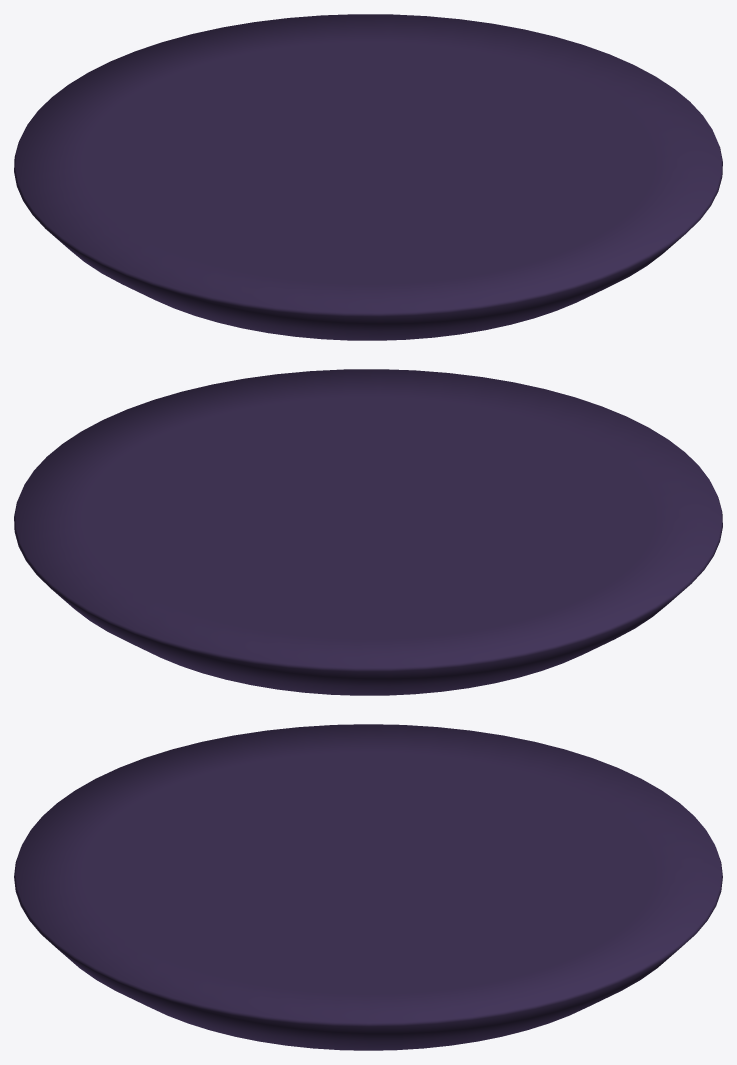
Rendered from lava-wave-aoe.glb.
3 renders of one model, top to bottom at view 1: azimuth 30°, elevation 25°; view 2: azimuth 150°, elevation 25°; view 3: azimuth 270°, elevation 25°, orthographic.
Visible parts, largest first — view 1: lava-wave-aoe; view 2: lava-wave-aoe; view 3: lava-wave-aoe.
Part boxes in pixels (x1,y1,x2,y2): lava-wave-aoe: [14, 14, 722, 340]; lava-wave-aoe: [14, 369, 722, 695]; lava-wave-aoe: [14, 724, 722, 1050].
Bounding box in the file's own units: 3.2 × 0.42 × 3.2.
